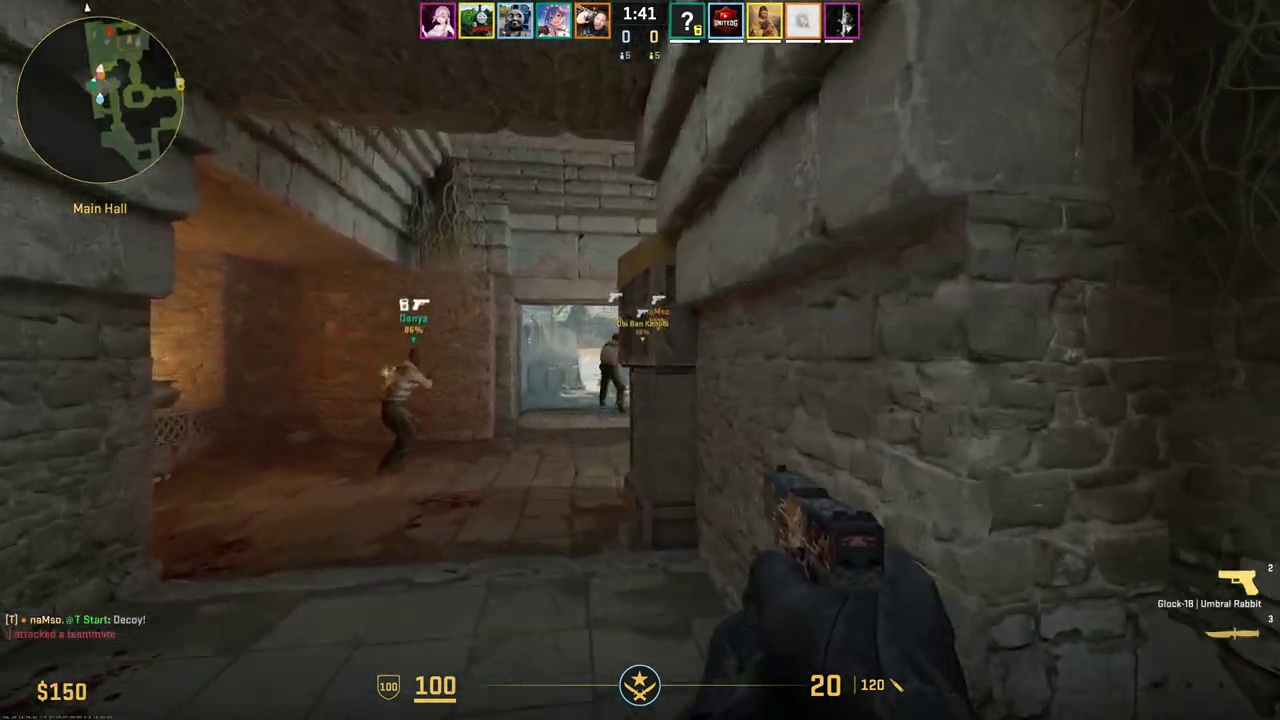Terrorist: (379, 350, 437, 470), (599, 334, 627, 413)
